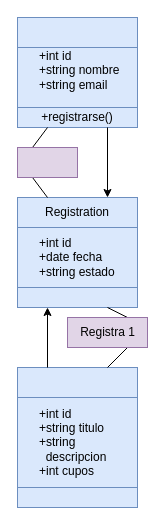
Some shapes in this 165 by 525 pixel diagram are drawn without their labels. Here are the shapes that lost their labels. From the top down, the centre of each, then its label:
(77,32): Student
(47,162): Tiene 1
(77,382): Course
